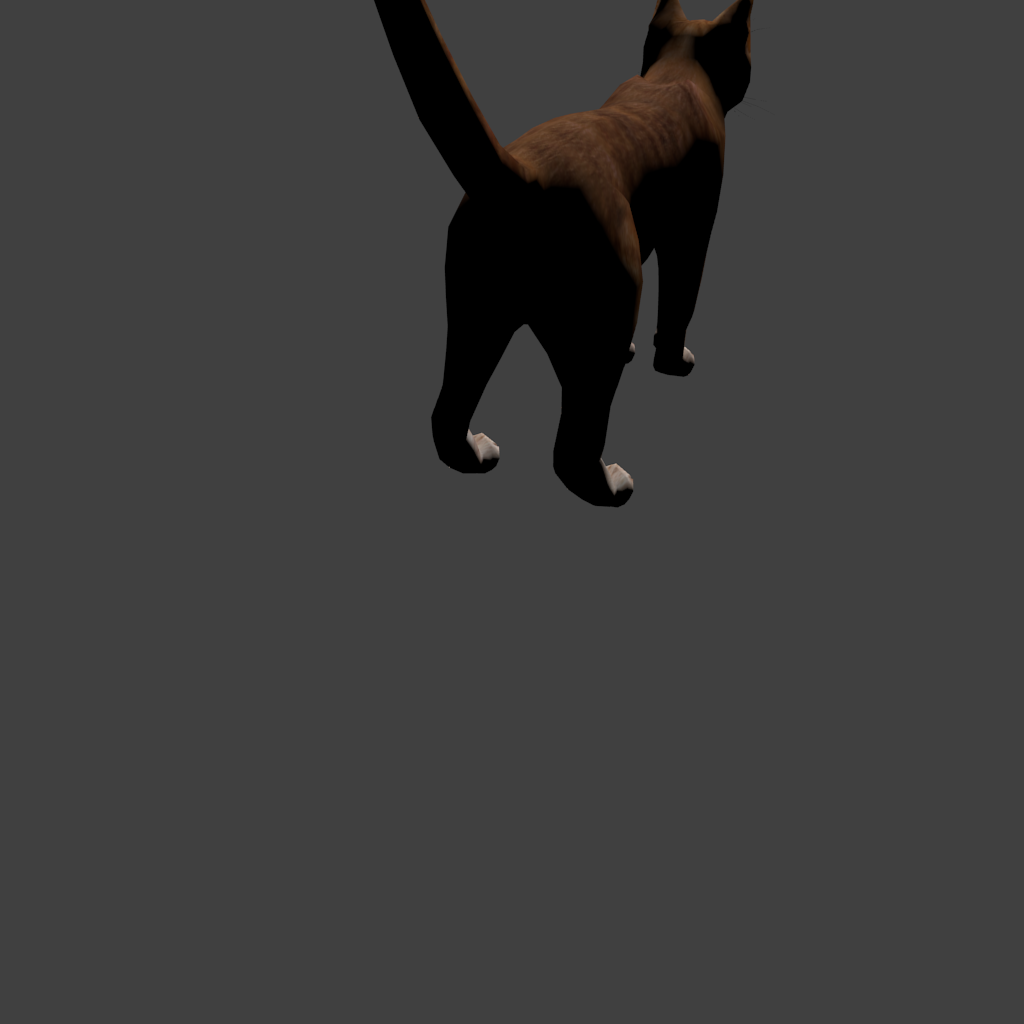Cat: (0, 0, 1024, 1024), (347, 0, 435, 508)
